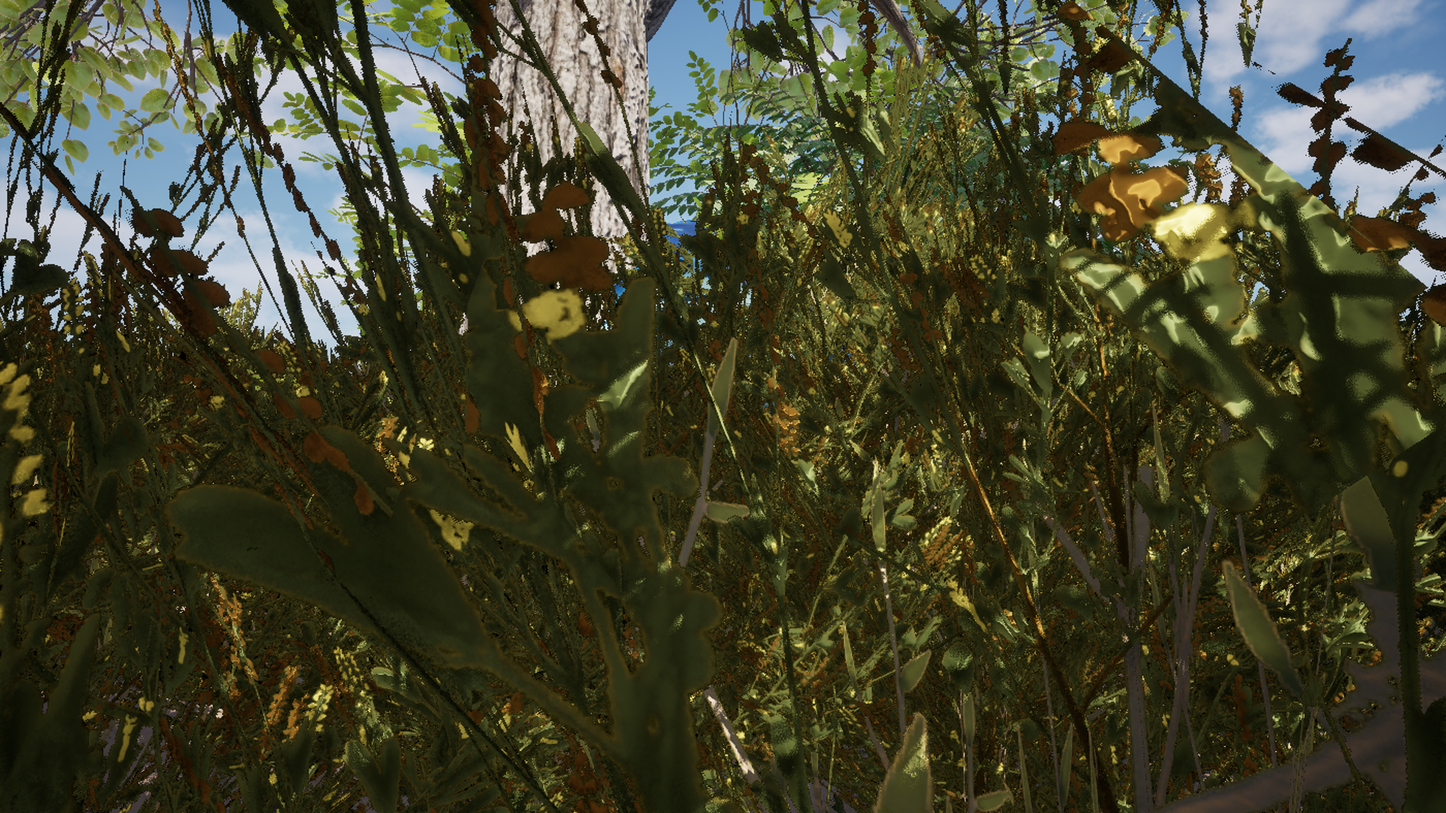Piplup: (440, 0, 1150, 813)
